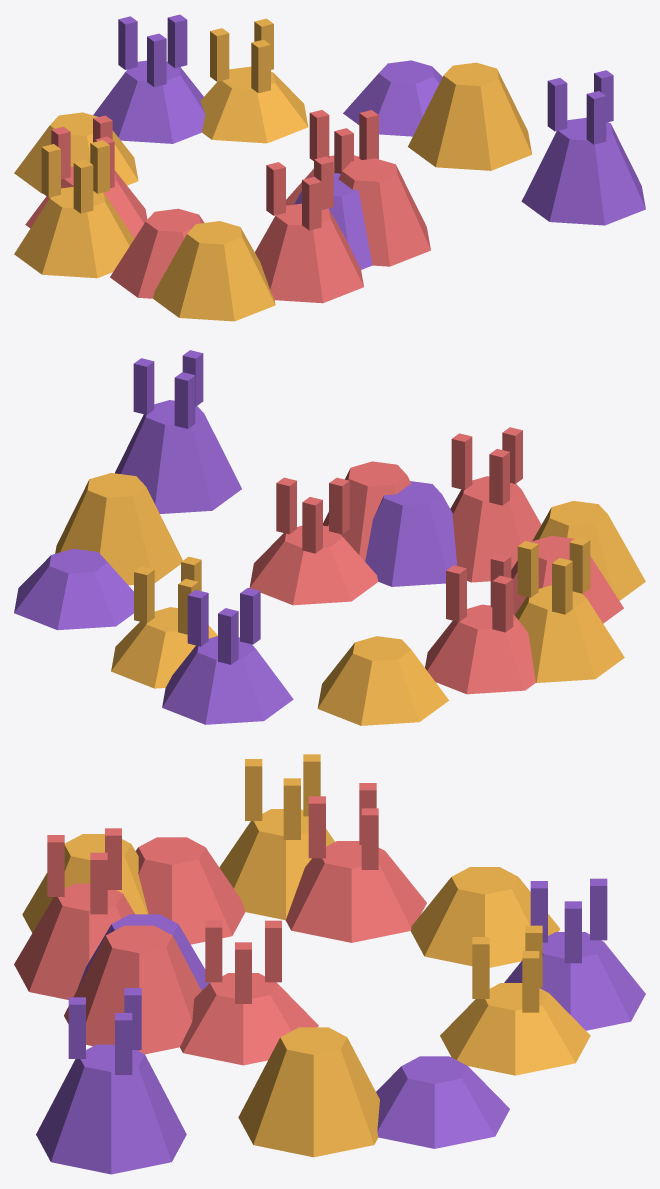
The model's file is barrier_reef.glb.
3 views of the same model, one above another, from view 1: azimuth 30°, elevation 25°; view 2: azimuth 150°, elevation 25°; view 3: azimuth 270°, elevation 25° (orthographic). The views are drawn at different scales.
Parts seen in each view (by area): view 1: barrier_reef; view 2: barrier_reef; view 3: barrier_reef.
Boxes of the visible parts, x1,y1,x2,y2 form: barrier_reef: (14,14,645,321); barrier_reef: (14,350,645,725); barrier_reef: (14,754,645,1174).
Bounding box in the file's own units: 0.8705 × 0.178 × 0.7349.
